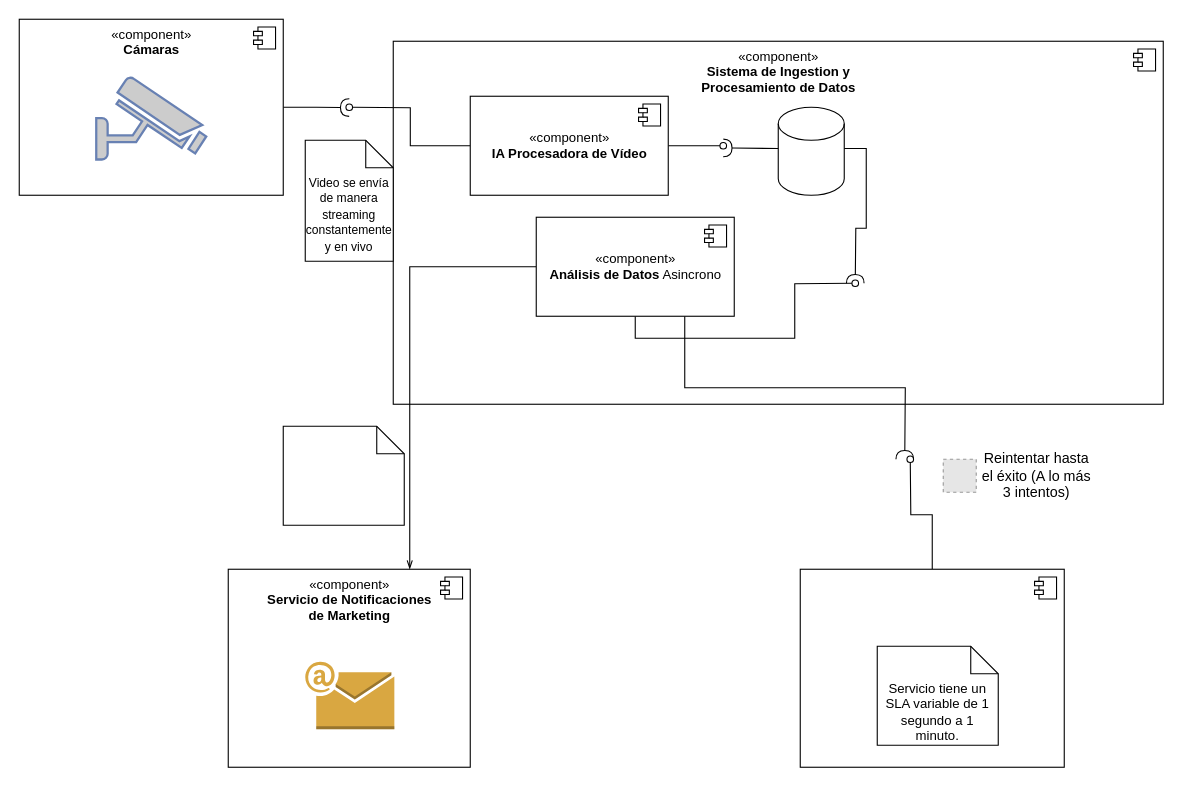
This 1183x787 diagram has some shape labels left out. Grey dashed boxes stand in for pictures. Each missing label, with the box of its shape:
DB: (777, 106, 844, 195)
Se envía un correo siempre que se generen 4 eventos antojo de un mismo cliente: (282, 425, 404, 525)
«component» Servicio de solicitud de Identidad: (799, 568, 1064, 767)
